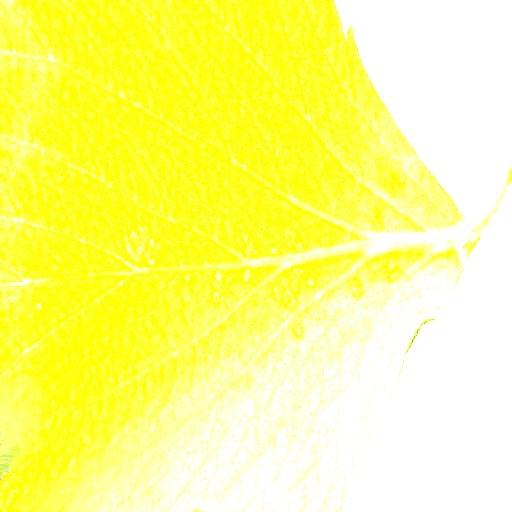Angular Leafspot: (30, 214, 417, 339)
